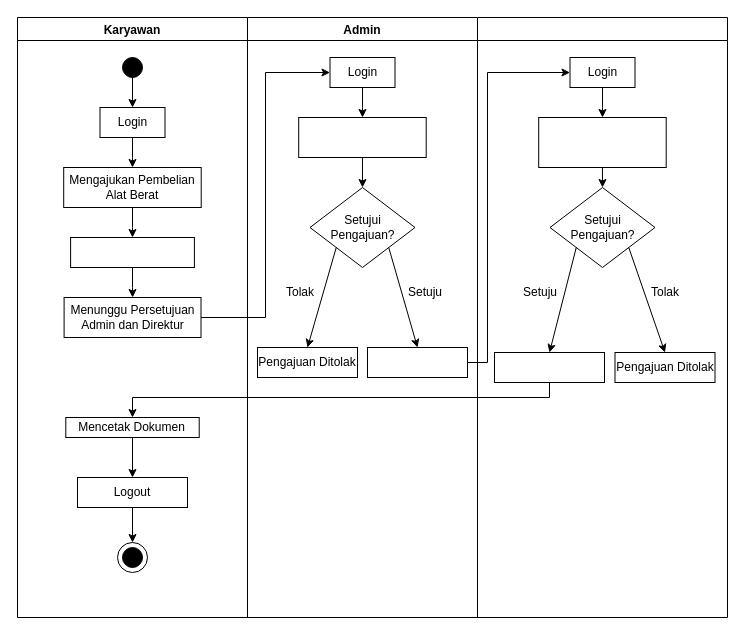
Some shapes in this 745 by 635 pixel diagram are drawn without their labels. Each missing label, with the box of its shape:
Direktur: (476, 16, 728, 618)
Melihat Pengajuan Pembelian Alat Berat: (298, 116, 426, 158)
Melihat Pengajuan Pembelian Alat Berat dari Admin: (538, 116, 666, 168)
Pengajuan Disetujui: (494, 352, 604, 382)
Pengajuan Ke Direktur: (366, 346, 468, 378)
Submit Pengajuan: (70, 236, 194, 268)
